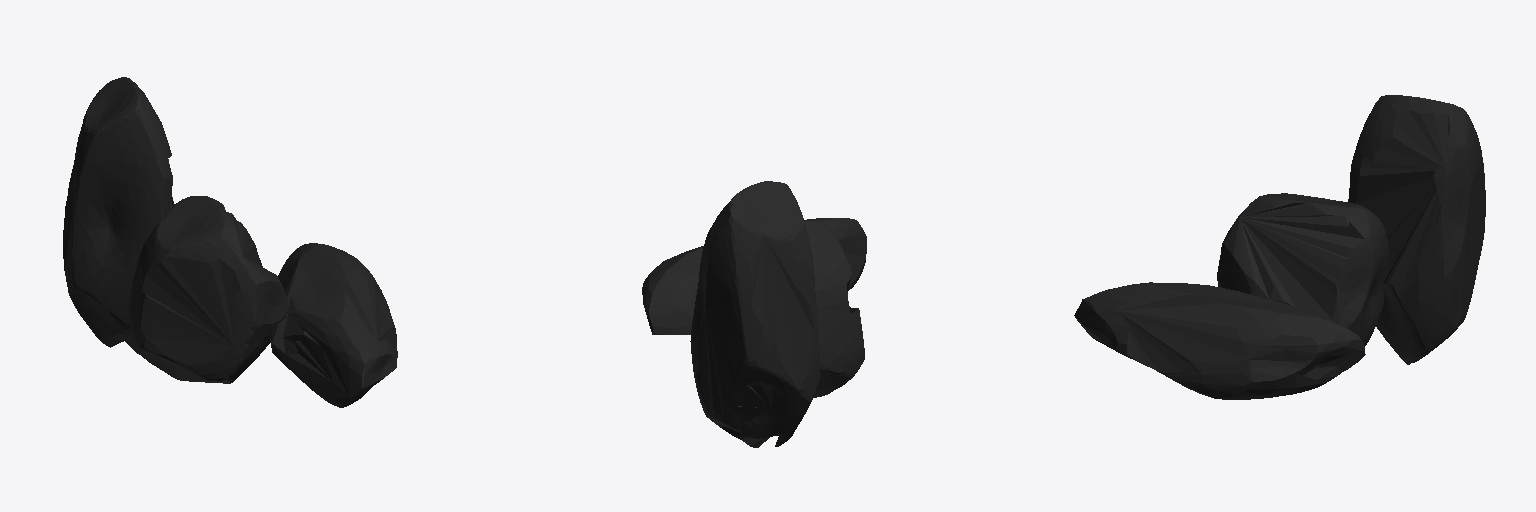
File: rock_formation.obj
3 views of the same model, side by side, from view 1: azimuth 30°, elevation 25°; view 2: azimuth 150°, elevation 25°; view 3: azimuth 270°, elevation 25° (orthographic).
Parts seen in each view (by area): view 1: Cube; view 2: Cube; view 3: Cube.
Part boxes in pixels (bbox=[...]): Cube: bbox=[63, 77, 397, 407]; Cube: bbox=[642, 181, 866, 447]; Cube: bbox=[1074, 95, 1485, 399].
Size of the model in its own units: 4.53 by 4.91 by 6.85.